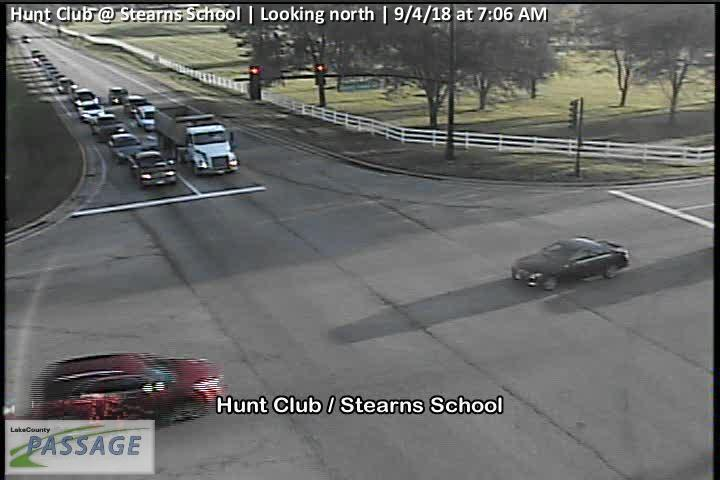SUV: (27, 353, 224, 433), (71, 89, 100, 107), (135, 106, 154, 131)
Sedan: (512, 236, 630, 291), (131, 151, 176, 185), (108, 133, 142, 160), (93, 114, 126, 137), (80, 104, 105, 123), (126, 94, 147, 113), (56, 76, 76, 93), (108, 87, 126, 104)
Truck: (153, 104, 239, 177)
